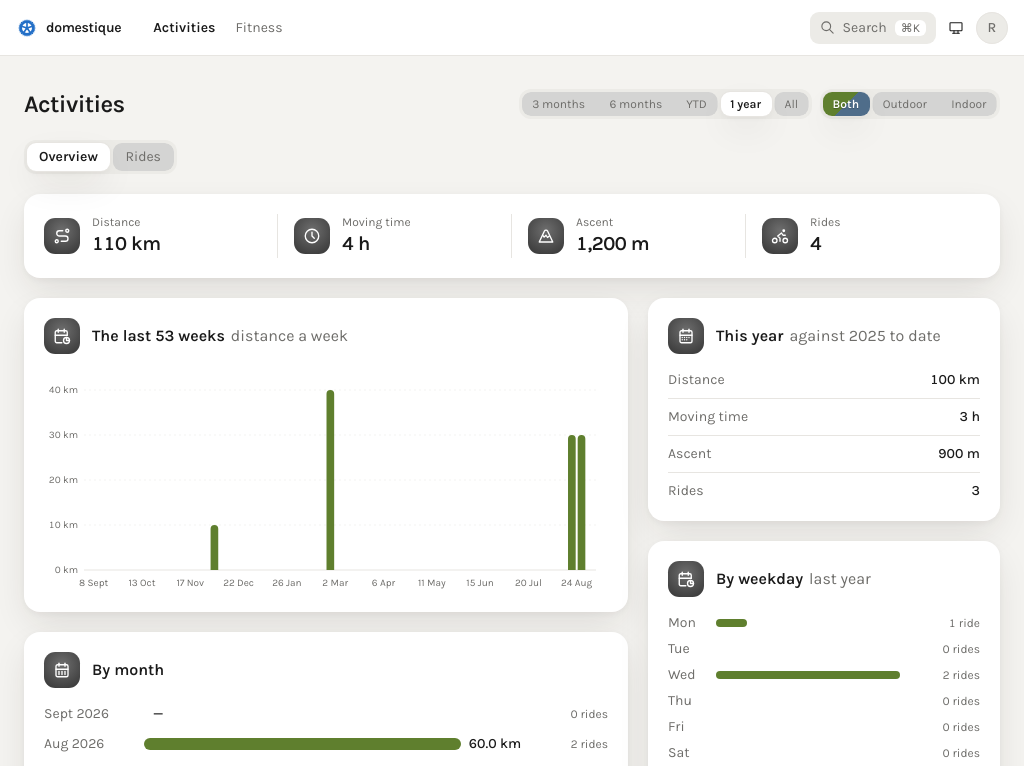
Test: the activities page › counts only the range picked, and keeps this year to its calendar
Expected: the element "Distance" shows "110 km", [92,232,161,255]
Click the button "3 months".
click(559, 104)  # box [522,92,596,116]
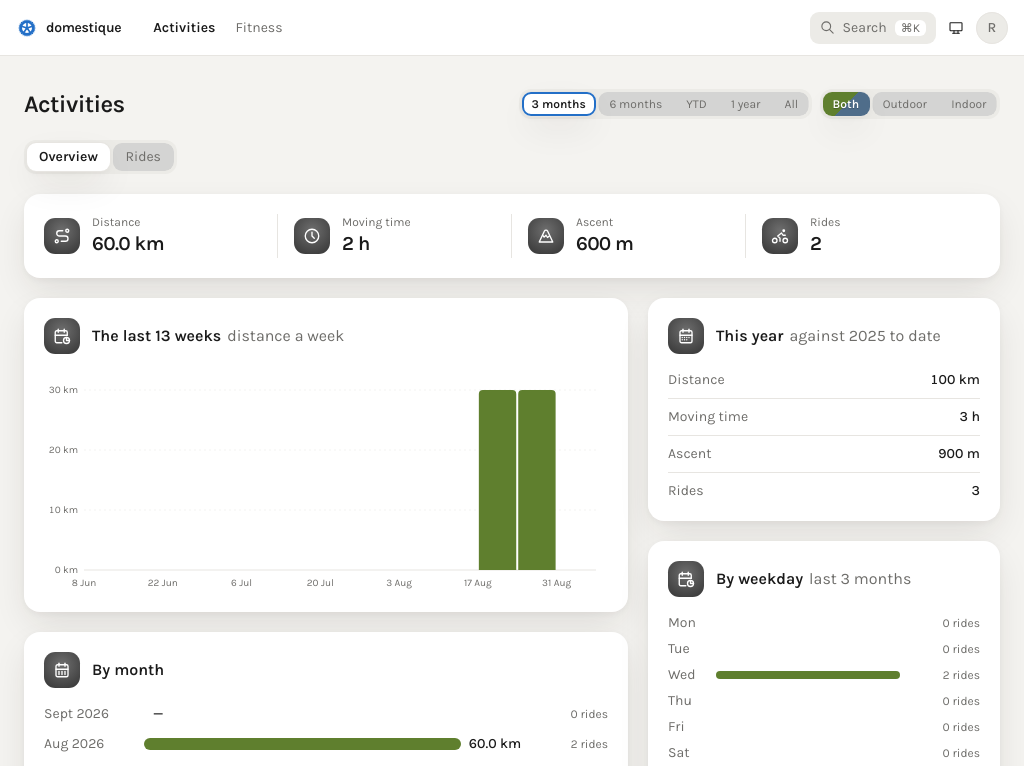
Expected: the text "100 km" is shown, [930,370,980,390]
Result: the element "Distance" shows "60.0 km" at [92,232,164,255]
Click the button "YTD".
click(696, 104)  # box [676,92,717,116]
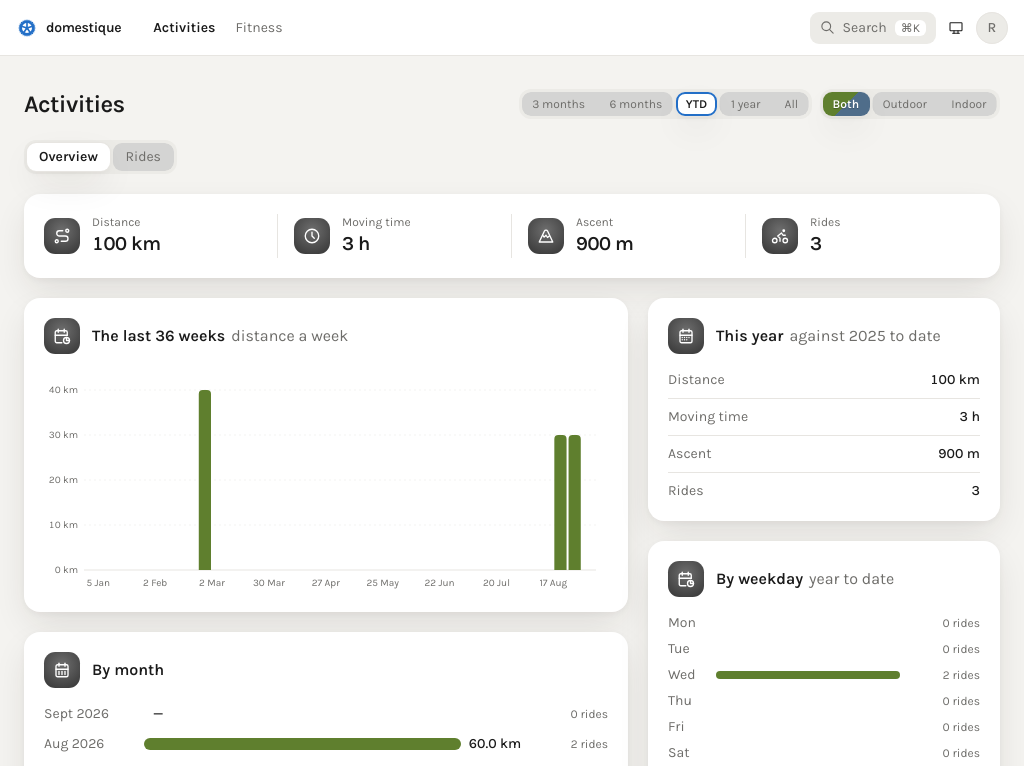
Result: the element "Distance" shows "100 km" at [92,232,161,255]
